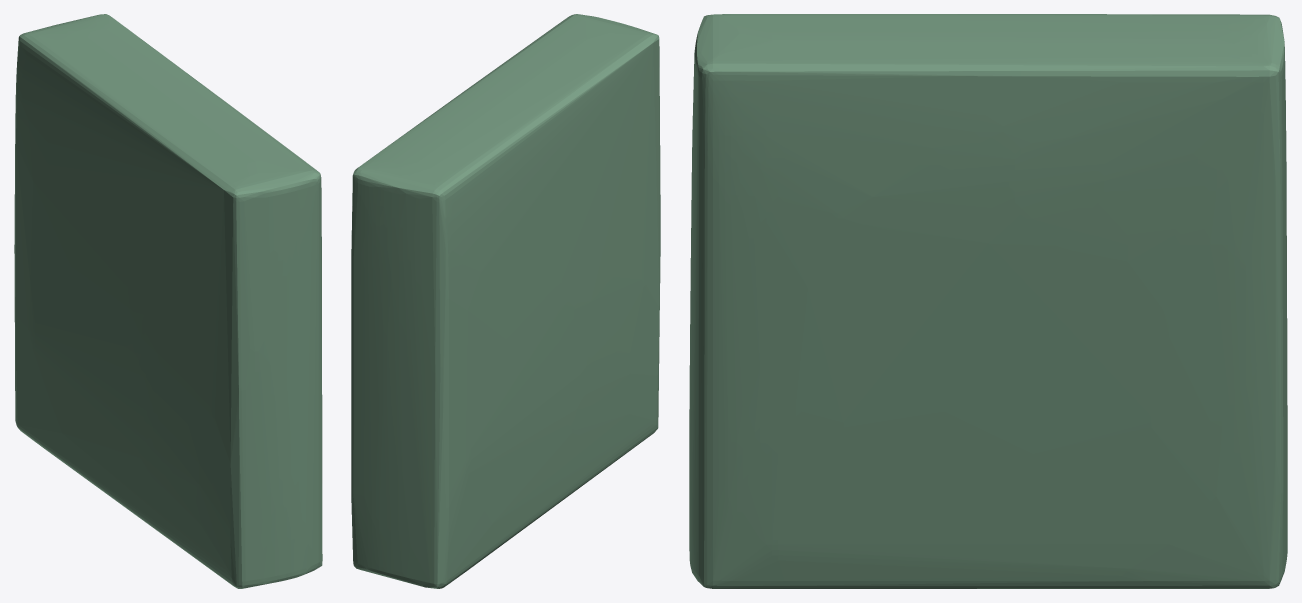
File: coacd_collision.obj
3 renders of one model, left to right at view 1: azimuth 30°, elevation 25°; view 2: azimuth 150°, elevation 25°; view 3: azimuth 270°, elevation 25°, orthographic. The views are drawn at different scales.
Parts seen in each view (by area): view 1: geometry_0; view 2: geometry_0; view 3: geometry_0.
Boxes of the visible parts, bbox=[...] form: geometry_0: bbox=[14, 14, 322, 588]; geometry_0: bbox=[351, 14, 660, 588]; geometry_0: bbox=[689, 14, 1287, 588].
Bounding box in the file's own units: 47.41 × 180 × 184.
